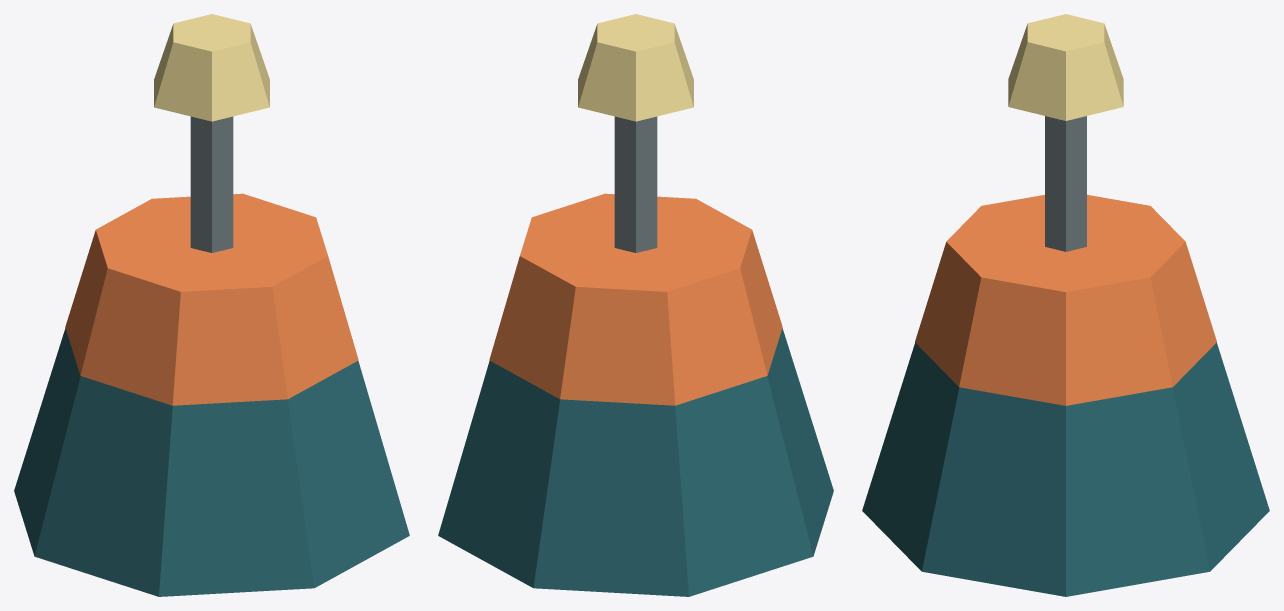
Rendered from marker-buoy.gltf.
3 renders of one model, left to right at view 1: azimuth 30°, elevation 25°; view 2: azimuth 150°, elevation 25°; view 3: azimuth 270°, elevation 25°, orthographic.
Parts seen in each view (by area): view 1: Hull, BrightBand, Cap, Post; view 2: Hull, BrightBand, Cap, Post; view 3: Hull, BrightBand, Cap, Post.
Boxes of the visible parts, x1=… form: Hull: x1=14, y1=328, x2=409, y2=596; BrightBand: x1=65, y1=193, x2=358, y2=405; Cap: x1=154, y1=14, x2=269, y2=121; Post: x1=190, y1=116, x2=233, y2=252; Hull: x1=438, y1=328, x2=833, y2=596; BrightBand: x1=489, y1=193, x2=782, y2=405; Cap: x1=578, y1=14, x2=693, y2=121; Post: x1=614, y1=116, x2=657, y2=252; Hull: x1=862, y1=342, x2=1269, y2=596; BrightBand: x1=915, y1=194, x2=1216, y2=405; Cap: x1=1008, y1=14, x2=1123, y2=120; Post: x1=1045, y1=116, x2=1086, y2=251.
Bounding box in the file's own units: 0.92 × 1.19 × 0.92.
